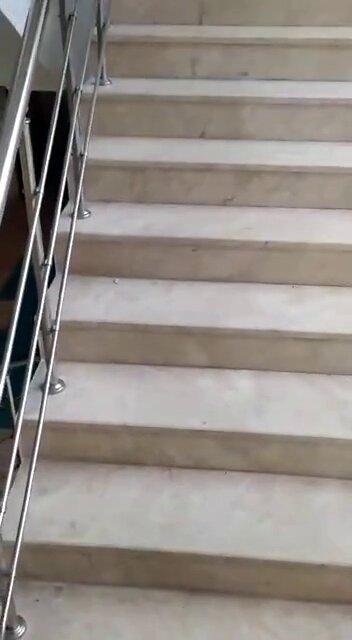Bench: (25, 4, 352, 598)
